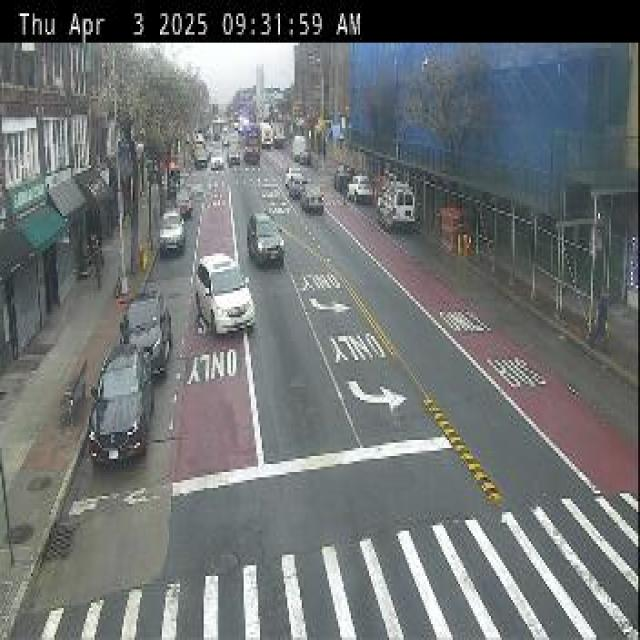open parking: (140, 242, 190, 290), (362, 172, 382, 212)
parkedCars: (84, 292, 174, 476), (160, 182, 198, 250), (374, 178, 419, 226), (335, 166, 374, 198)
